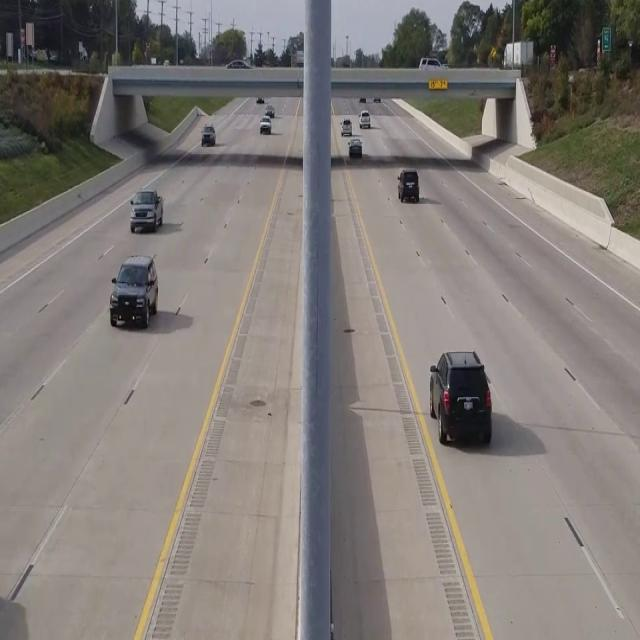car: (429, 350, 491, 446), (109, 254, 158, 328), (128, 188, 162, 232), (397, 168, 419, 203), (201, 123, 215, 146)
